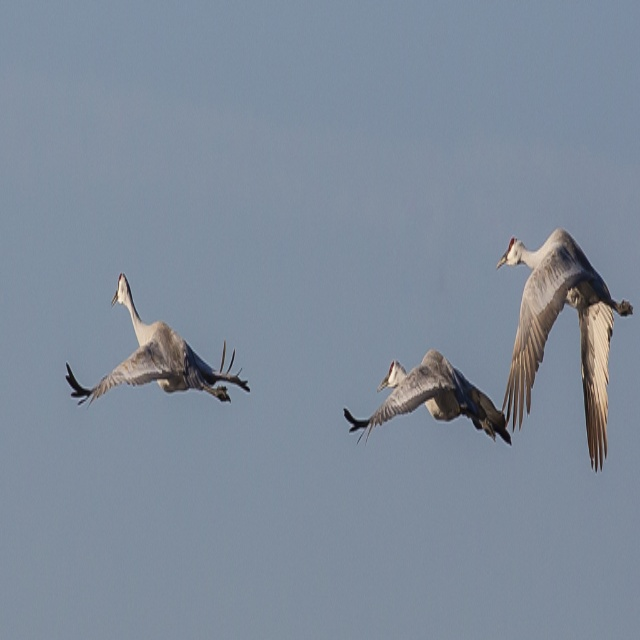Swan: (497, 229, 634, 477), (65, 272, 251, 412), (345, 352, 510, 446)
